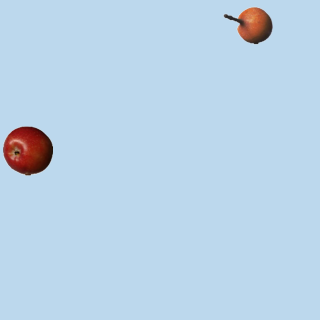Apple Braeburn: (2, 125, 52, 175)
Granadilla: (222, 0, 272, 50)
